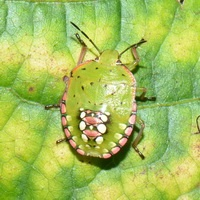insect: (45, 22, 155, 163), (46, 22, 145, 158)
